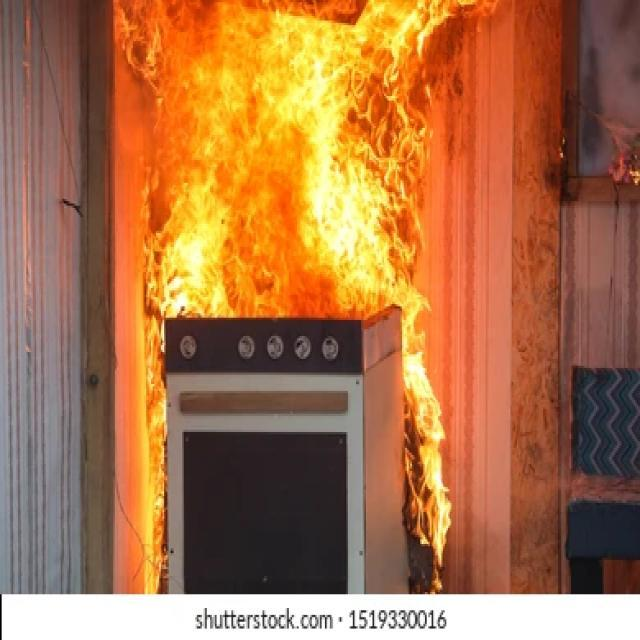fire: (128, 9, 446, 316), (408, 332, 473, 539)
